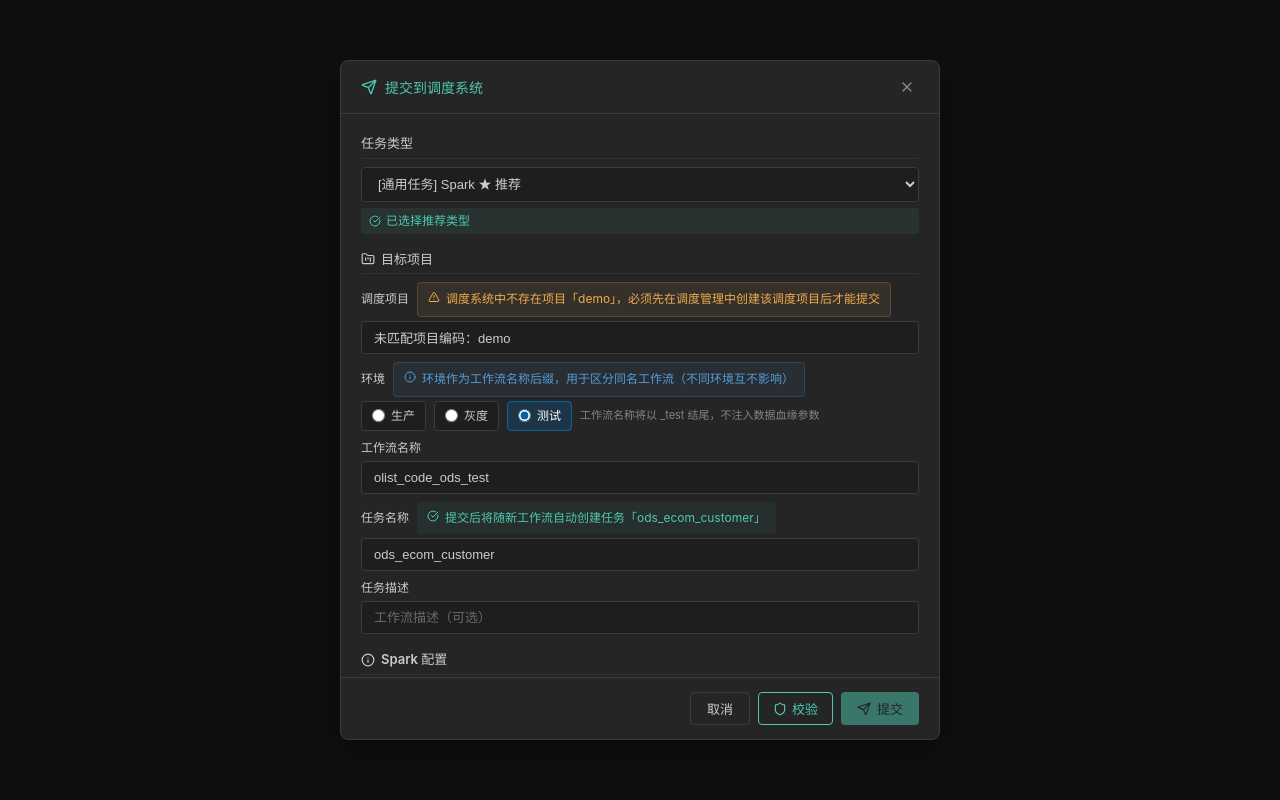
Test: SubmitToSchedulerModal — 应用名称 = 项目.工作流.任务 › 切换环境后应用名称同步换成对应后缀
Click the radio button labelled "生产": (378, 416) top-left (372, 409), bottom-right (385, 422)
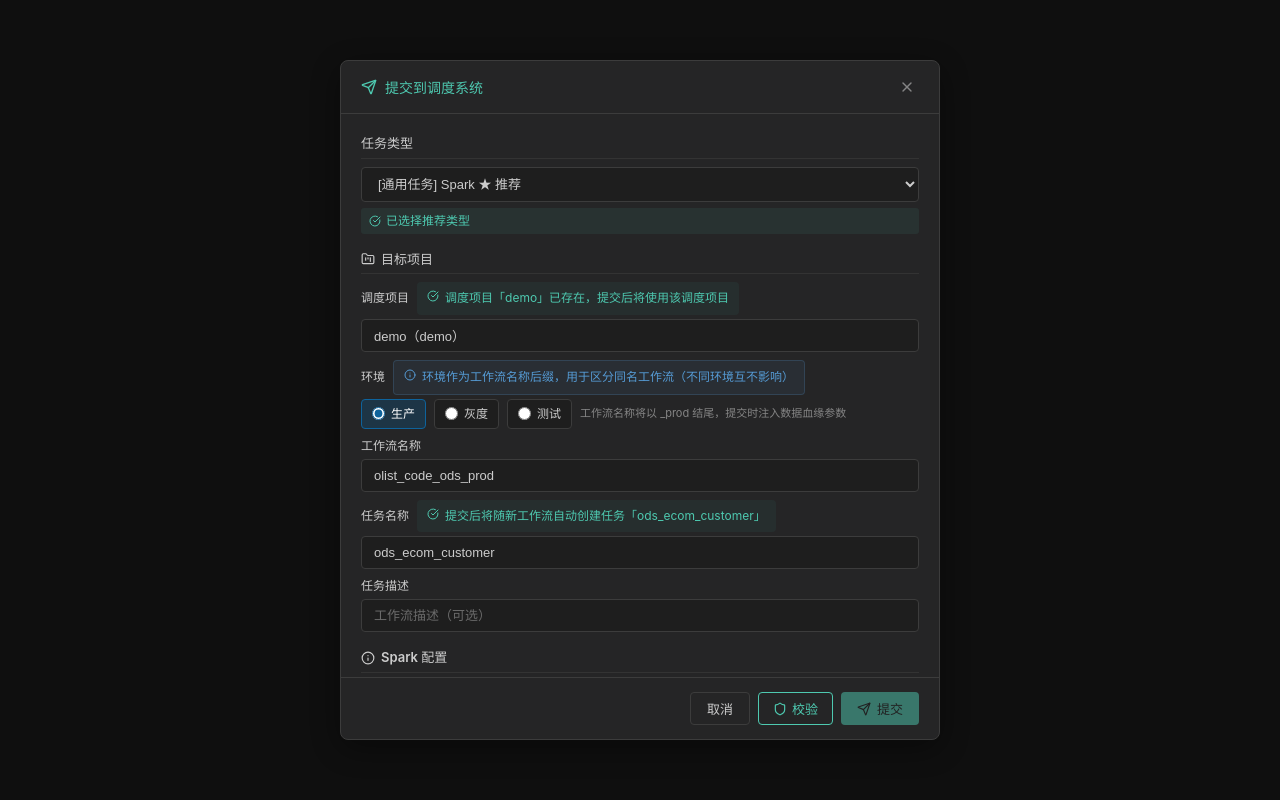
Click the radio button labelled "灰度": (452, 414) top-left (445, 407), bottom-right (458, 420)
(page scrolled)
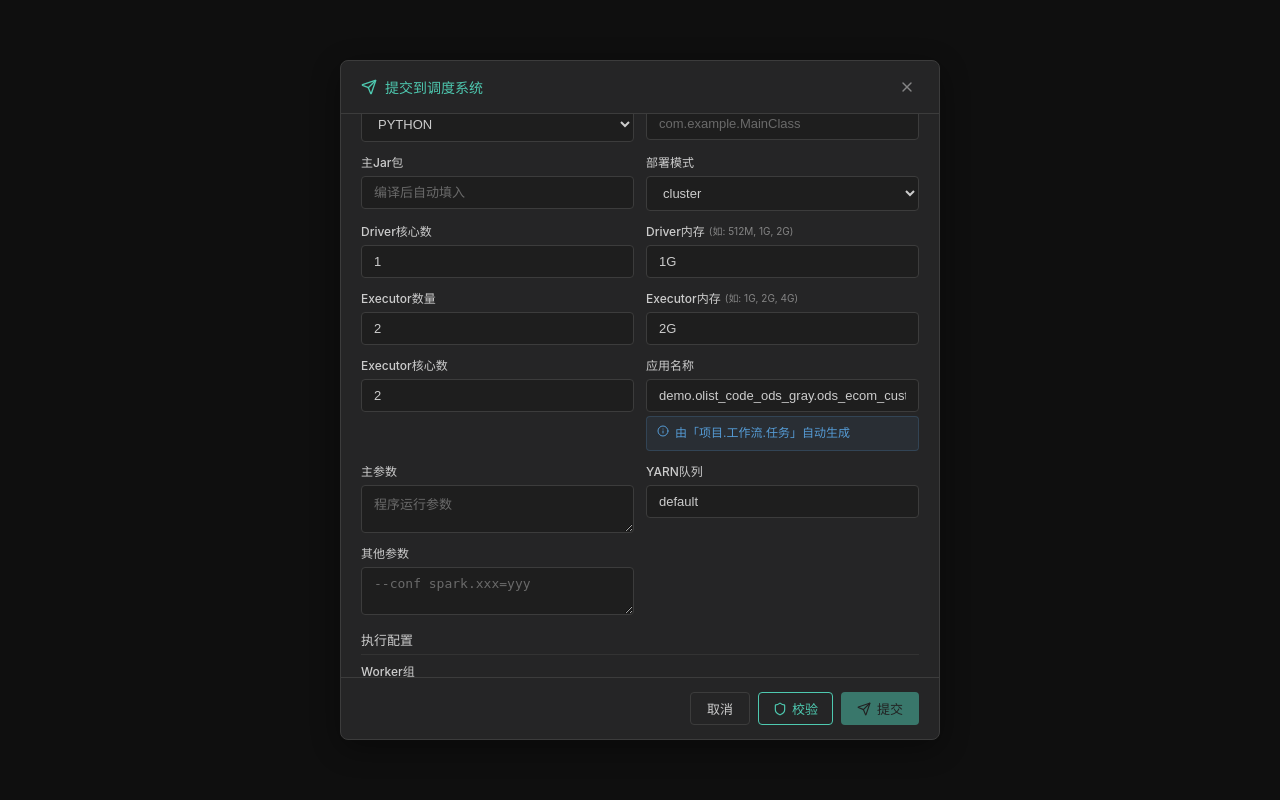
Now the field with test id "submit-scheduler-app-name" holds "demo.olist_code_ods_gray.ods_ecom_customer", box top-left (646, 379), bottom-right (919, 412)
